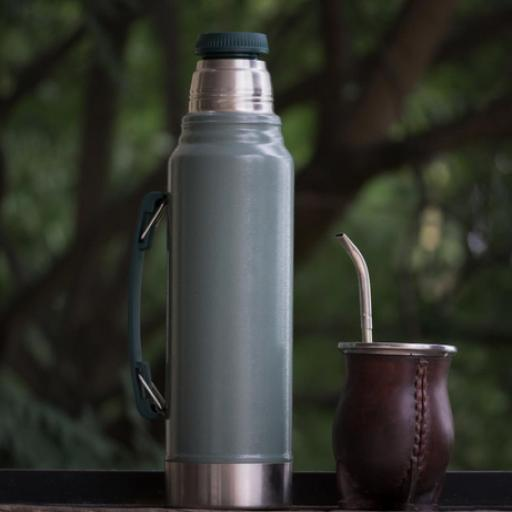mate: (333, 338, 456, 510)
termo: (128, 32, 294, 509)
